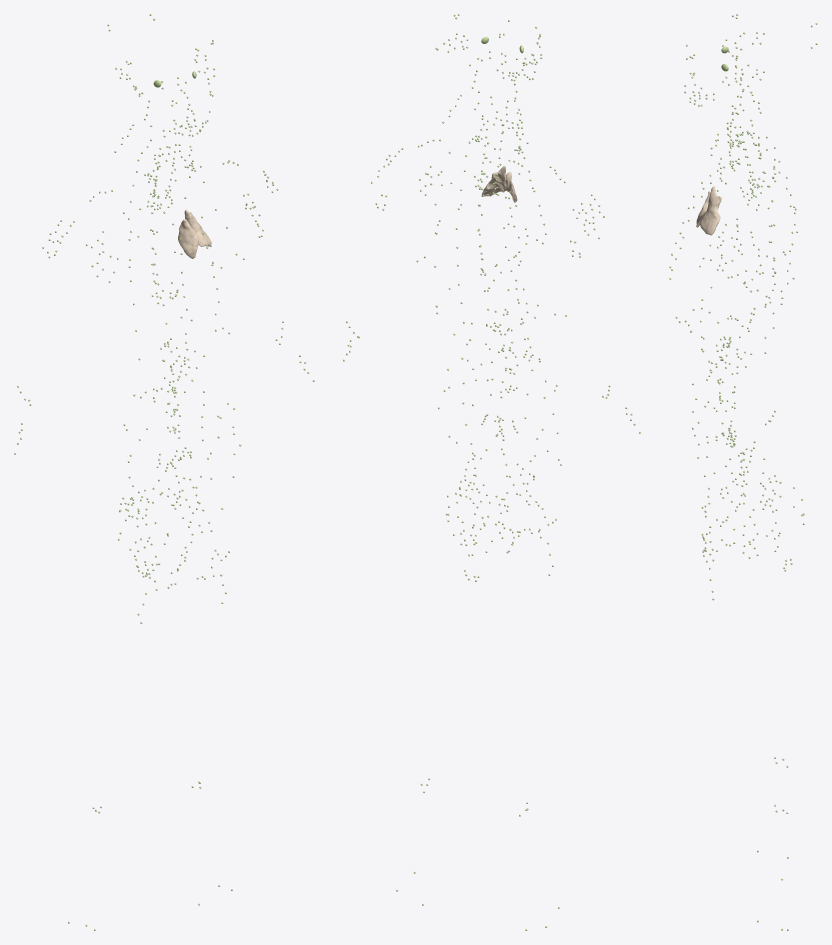
The picture shows the model from 3 angles, left to right: view 1: azimuth 30°, elevation 25°; view 2: azimuth 150°, elevation 25°; view 3: azimuth 270°, elevation 25°; orthographic projection.
Parts seen in each view (by area): view 1: no part large enough to name; view 2: no part large enough to name; view 3: Lymph_Left_Lobe_Of_Thymus.
Part boxes in pixels (x1,y1,x2,y2): Lymph_Left_Lobe_Of_Thymus: [699, 186, 721, 235].
Bounding box in the file's own units: 0.4523 × 1.28 × 0.1963.
